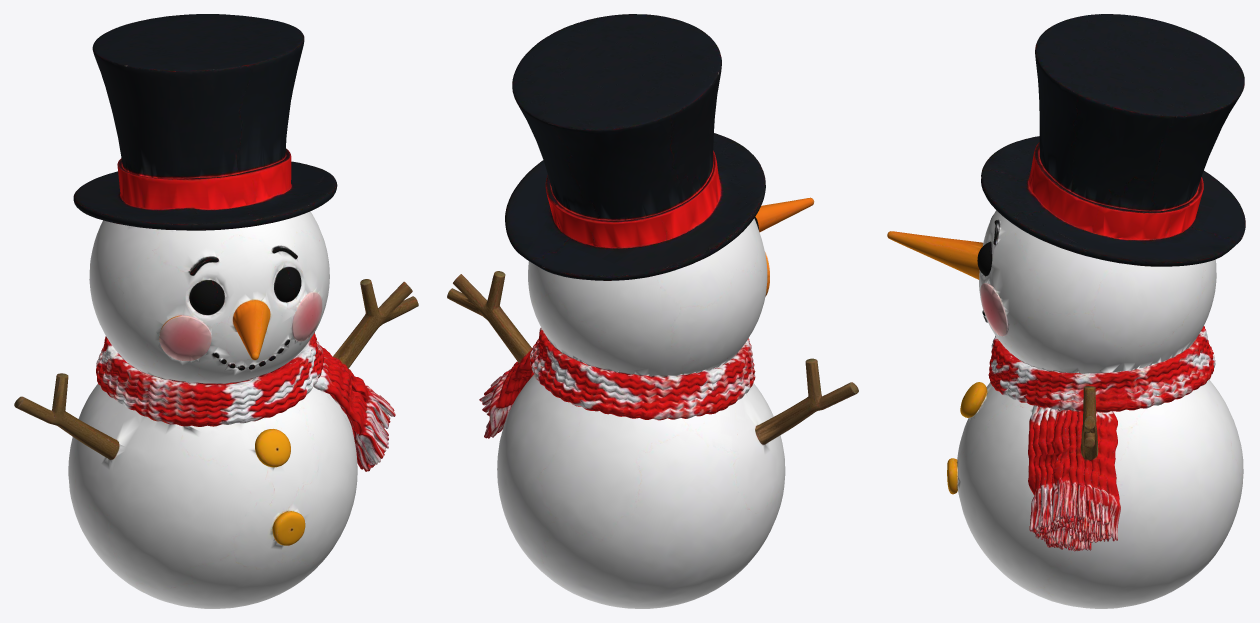
Rendered from bonhomme.glb.
3 renders of one model, left to right at view 1: azimuth 30°, elevation 25°; view 2: azimuth 150°, elevation 25°; view 3: azimuth 270°, elevation 25°, orthographic.
Size of the model in its own units: 1.48 by 1.9 by 1.14.
Materials: 1 (1 with a texture image).
